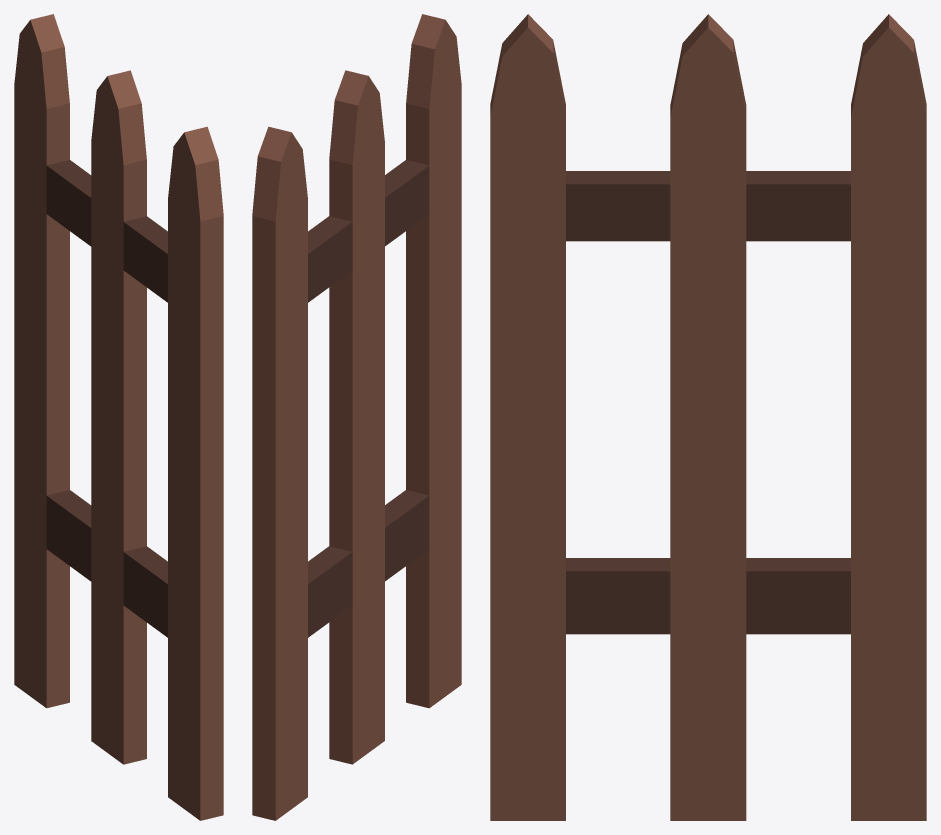
The model's file is CercaCent.fbx.
3 renders of one model, left to right at view 1: azimuth 30°, elevation 25°; view 2: azimuth 150°, elevation 25°; view 3: azimuth 270°, elevation 25°, orthographic. The views are drawn at different scales.
Visible parts, largest first — view 1: Centro; view 2: Centro; view 3: Centro.
Part boxes in pixels (x1,y1,x2,y2): Centro: (14,14,223,820); Centro: (252,14,461,820); Centro: (490,14,926,820).
Size of the model in its own units: 12.3 by 340 by 170.
